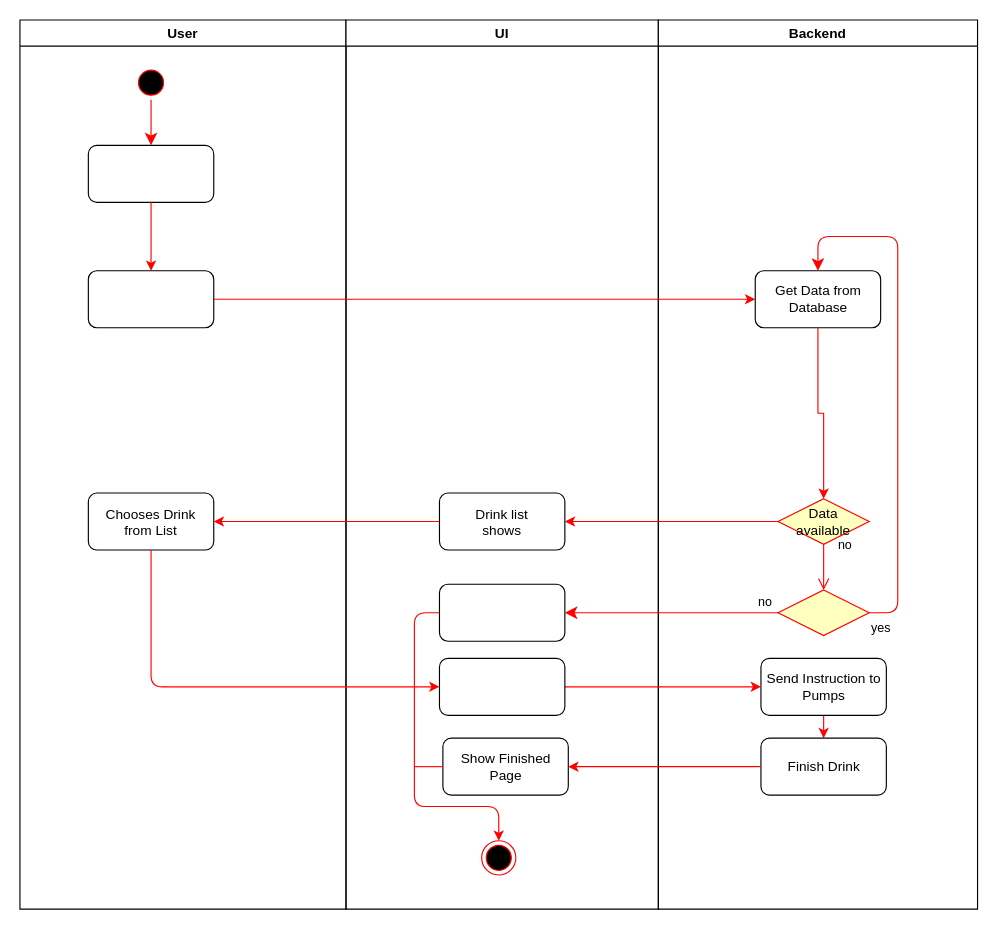
This 998x929 diagram has some shape labels left out. The shapes that lost their labels are listed below. From the top down, each one's centre as x and y in pixels, then its label:
At (x=150, y=173): "Approaches Machine".
At (x=150, y=299): "Klick Get Drink from List".
At (x=501, y=612): "Show Error message".
At (x=823, y=612): "First try?".
At (x=501, y=686): "Show Process Page".
